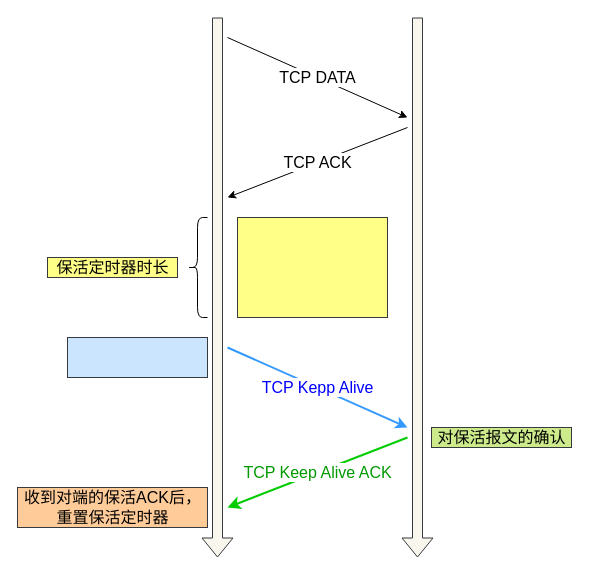
Image size: 589x574. Some labels were removed from this diagram. The centre of each missing label's shape, as x and y in pixels:
保活定时器超时， 发送保活报文: point (137, 357)
长时间无数据交互: point (312, 267)
